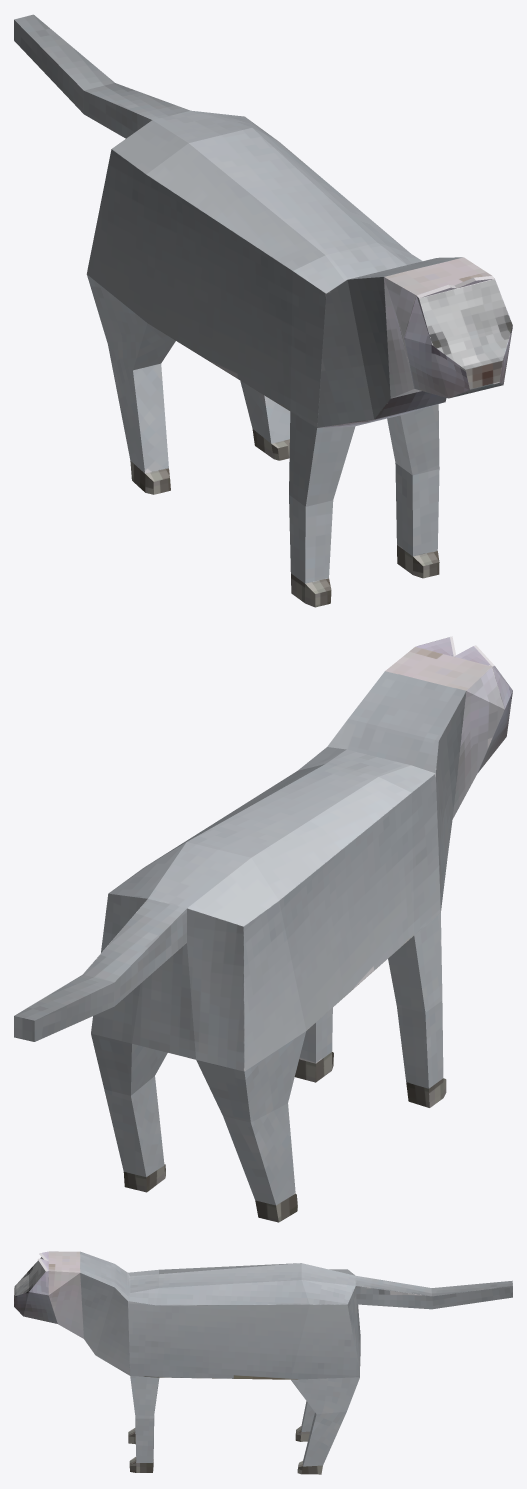
The model's file is cat_1.fbx.
The picture shows the model from 3 angles, top to bottom: view 1: azimuth 30°, elevation 25°; view 2: azimuth 150°, elevation 25°; view 3: azimuth 270°, elevation 25°; orthographic projection. The views are drawn at different scales.
Parts seen in each view (by area): view 1: kocka; view 2: kocka; view 3: kocka.
Boxes of the visible parts, bbox=[...] form: kocka: bbox=[14, 14, 512, 607]; kocka: bbox=[14, 636, 512, 1222]; kocka: bbox=[14, 1251, 512, 1474].
Size of the model in its own units: 11.73 by 26.38 by 59.24.
